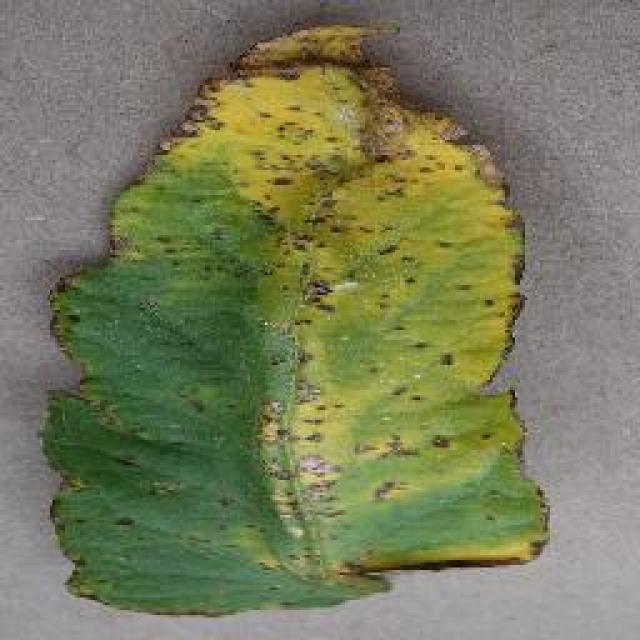Tomato bacterial spot leaf: (35, 13, 550, 622)
